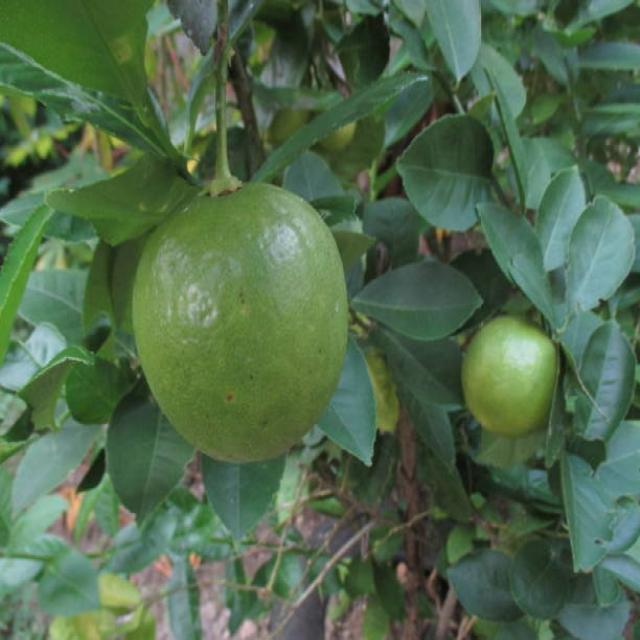Unripe: (130, 176, 348, 466), (462, 312, 560, 434)
